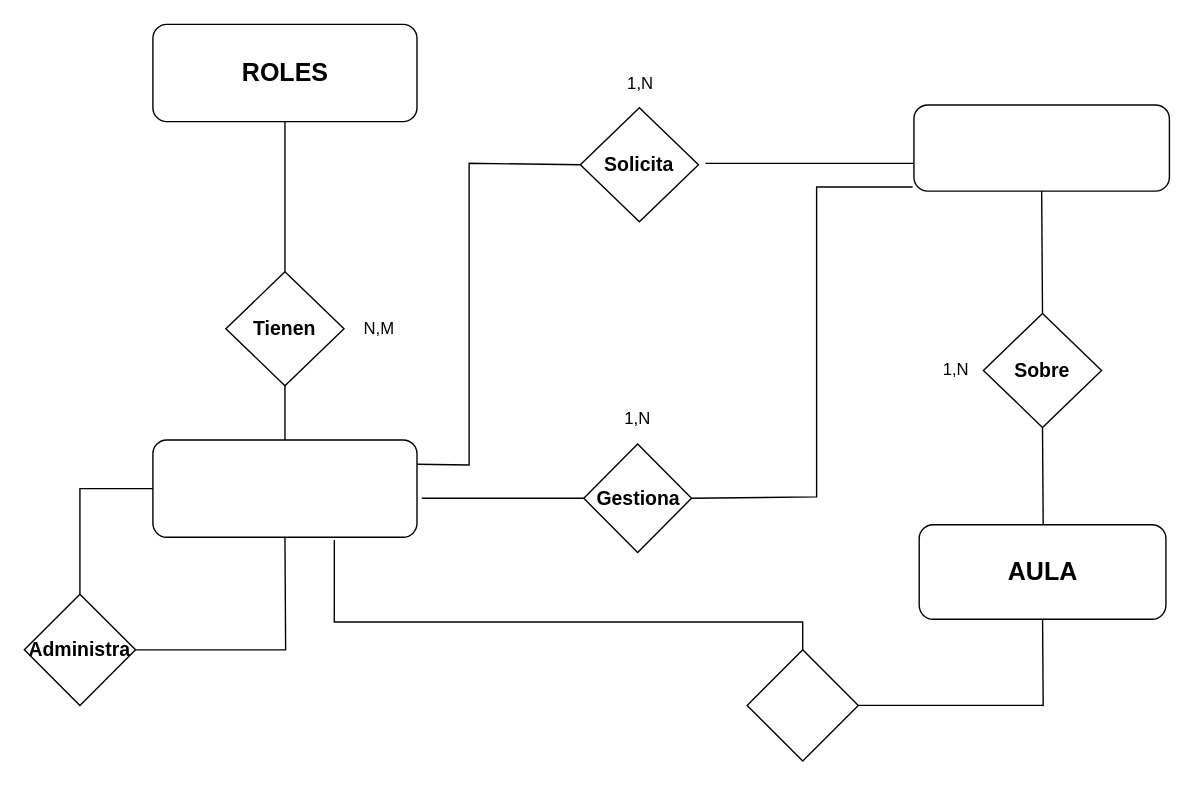
The diagram is 1194 pixels wide and 785 high, and some of its shapes have lost their labels. The box of each missing label's shape, as (x1, y1, x2, y2) in pixels:
Edita: (746, 648, 858, 761)
RESERVAS: (913, 104, 1169, 191)
USUARIO: (152, 439, 417, 537)
